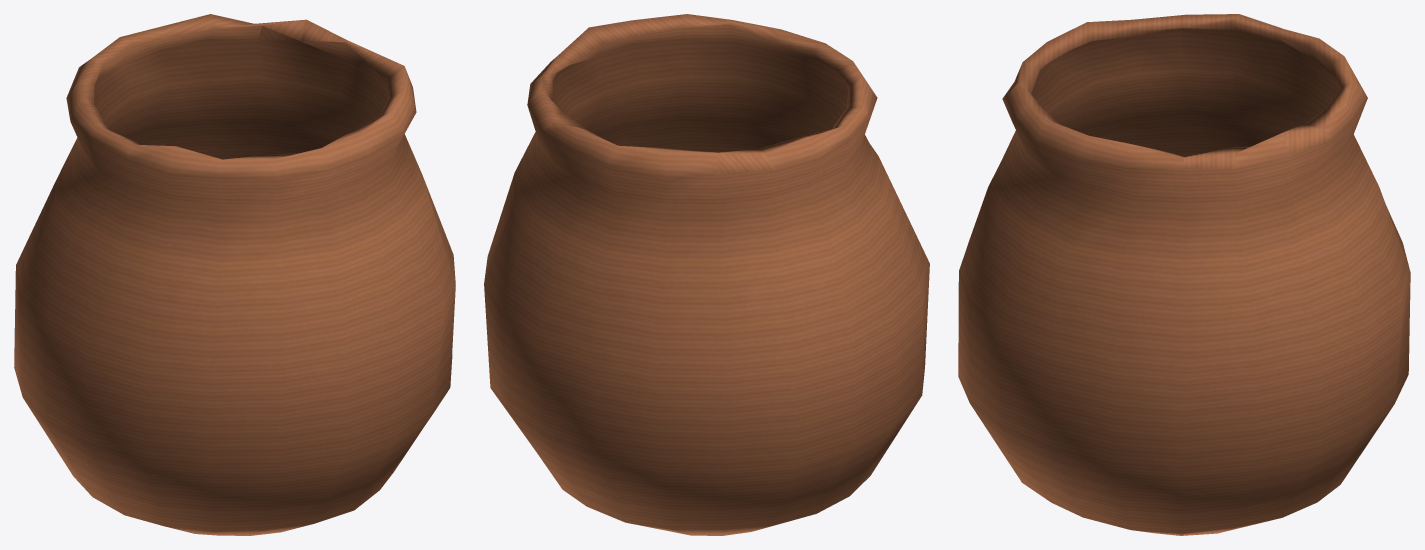
The model's file is oiljar.glb.
3 renders of one model, left to right at view 1: azimuth 30°, elevation 25°; view 2: azimuth 150°, elevation 25°; view 3: azimuth 270°, elevation 25°, orthographic. The views are drawn at different scales.
Parts seen in each view (by area): view 1: oiljar; view 2: oiljar; view 3: oiljar.
Boxes of the visible parts, left/top/right/bottom form: oiljar: left=14, top=14, right=455, bottom=535; oiljar: left=484, top=14, right=929, bottom=535; oiljar: left=958, top=14, right=1410, bottom=535.
Size of the model in its own units: 0.4771 by 0.4879 by 0.4702.
Materials: 1 (1 with a texture image).
